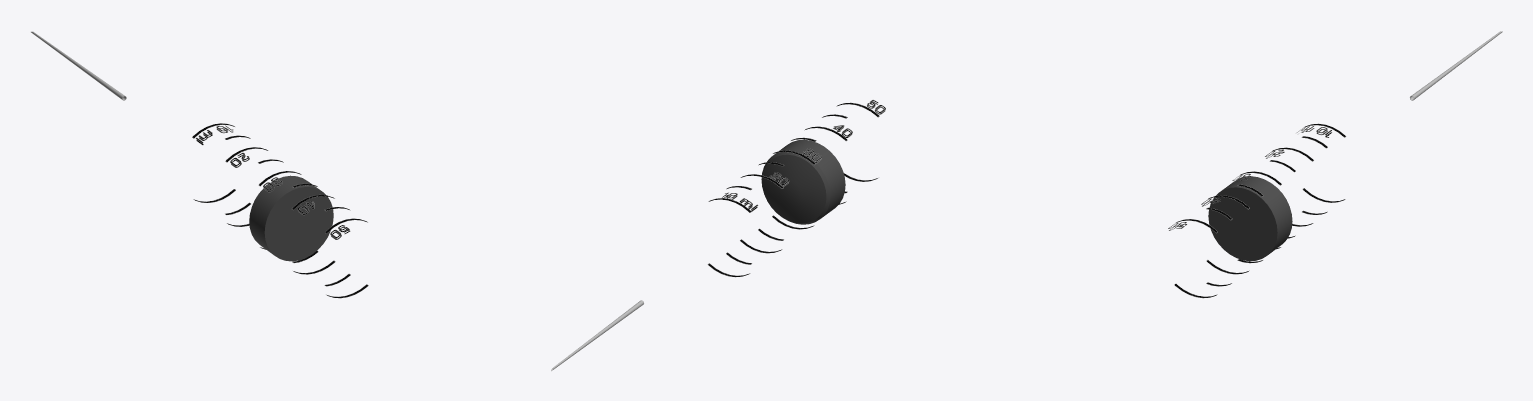
The model's file is Bomtiem50ml.fbx.
The picture shows the model from 3 angles, left to right: view 1: azimuth 30°, elevation 25°; view 2: azimuth 150°, elevation 25°; view 3: azimuth 330°, elevation 25°; orthographic projection.
Visible parts, largest first — view 1: Bomtiem50ml_3, Bomtiem50ml_2; view 2: Bomtiem50ml_3, Bomtiem50ml_2; view 3: Bomtiem50ml_3, Bomtiem50ml_2.
Boxes of the visible parts, <box> form: Bomtiem50ml_3: <box>249,175,333,261</box>; Bomtiem50ml_2: <box>31,31,368,298</box>; Bomtiem50ml_3: <box>761,139,845,224</box>; Bomtiem50ml_2: <box>551,99,885,371</box>; Bomtiem50ml_3: <box>1208,176,1292,261</box>; Bomtiem50ml_2: <box>1168,31,1502,298</box>.
Bounding box in the file's own units: 3.14 × 1.91 × 17.64.
1 material, 1 textured.
